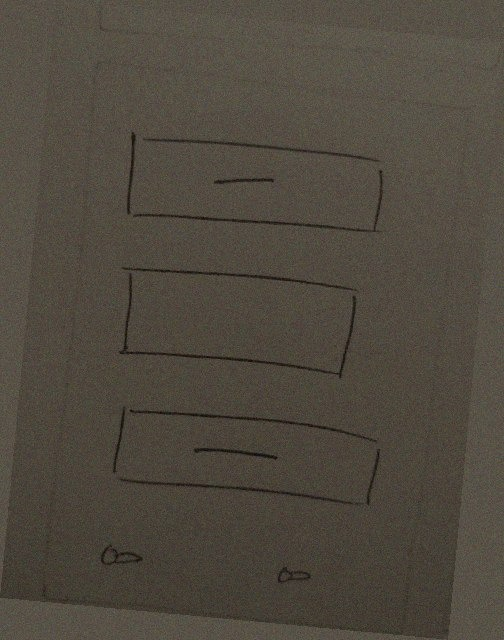button: (95, 393, 397, 521), (111, 118, 397, 248)
switch: (258, 553, 323, 597), (92, 529, 156, 572)
text_input: (103, 256, 371, 385)
